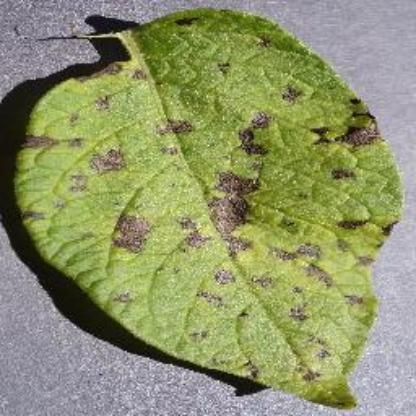Early-Blight: (13, 6, 401, 410)
